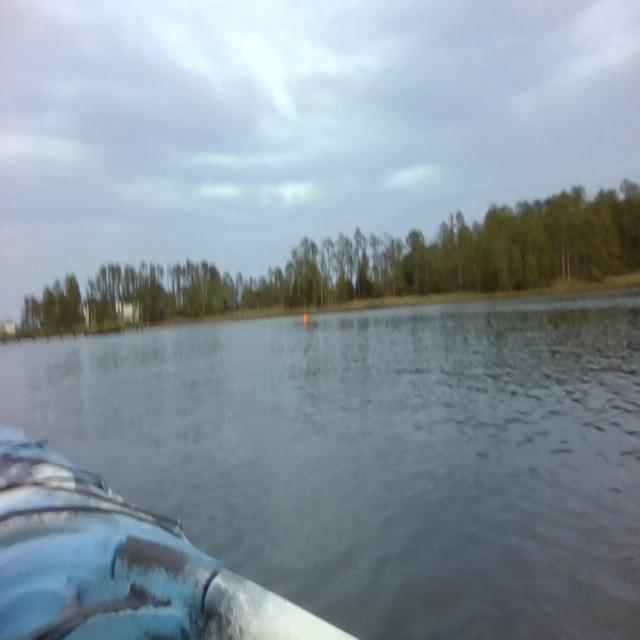Buoy: (302, 312, 310, 326)
